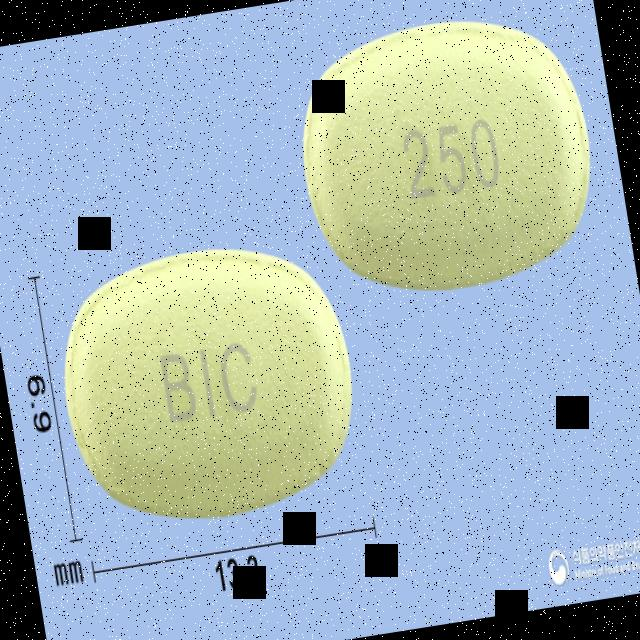Clasta: (45, 221, 373, 543), (283, 0, 609, 309)
